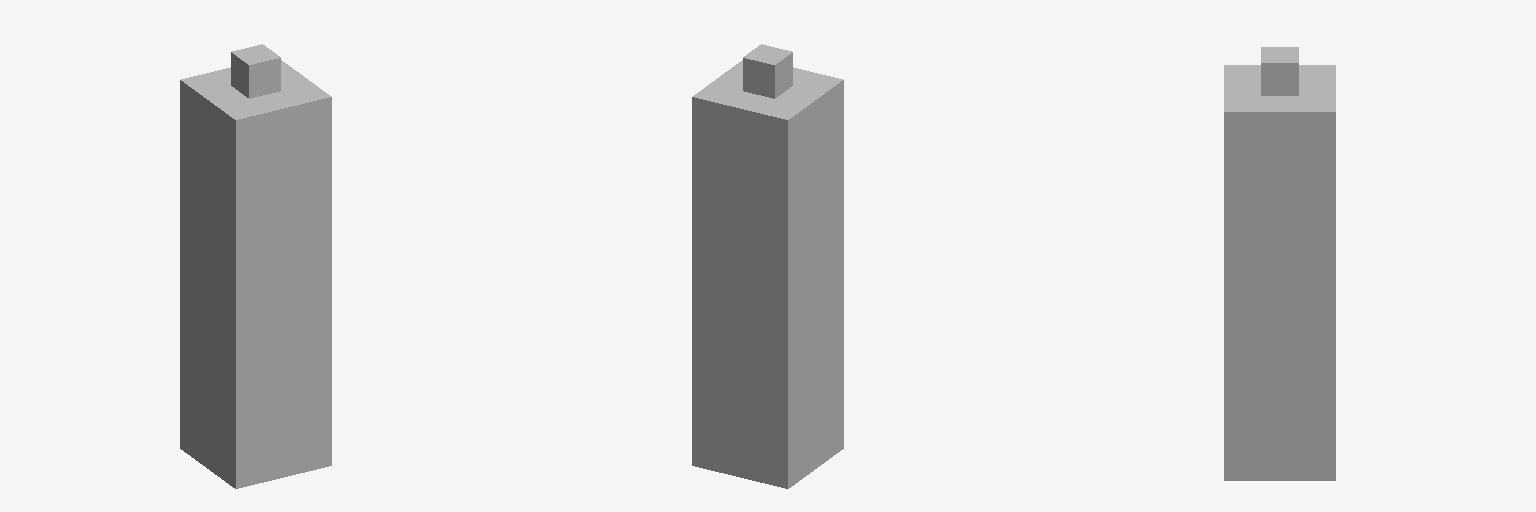
File: Red Bottle.obj
3 renders of one model, left to right at view 1: azimuth 30°, elevation 25°; view 2: azimuth 150°, elevation 25°; view 3: azimuth 270°, elevation 25°, orthographic.
Visible parts, largest first — view 1: object 1; view 2: object 1; view 3: object 1.
Boxes of the visible parts, x1,y1,x2,y2 form: object 1: [180, 44, 331, 488]; object 1: [692, 44, 843, 488]; object 1: [1224, 47, 1335, 480].
Bounding box in the file's own units: 0.3 × 1.2 × 0.3.